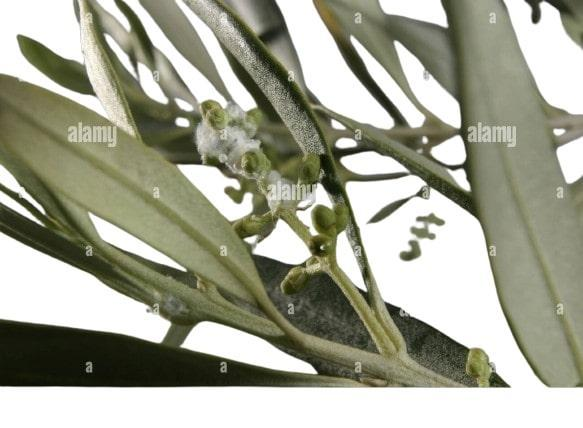Psyllid: (187, 92, 300, 217)
